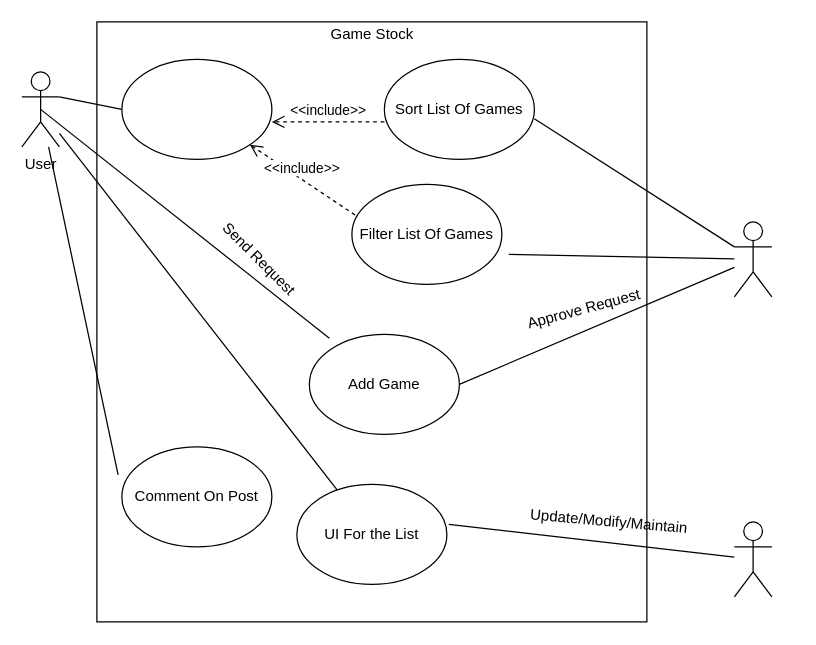
This 816x645 diagram has some shape labels left out. The box of each missing label's shape, as (x1, y1, x2, y2) in pixels:
Administer: (733, 221, 772, 297)
Programmer: (733, 521, 772, 597)
View List Of Games: (121, 58, 272, 159)
